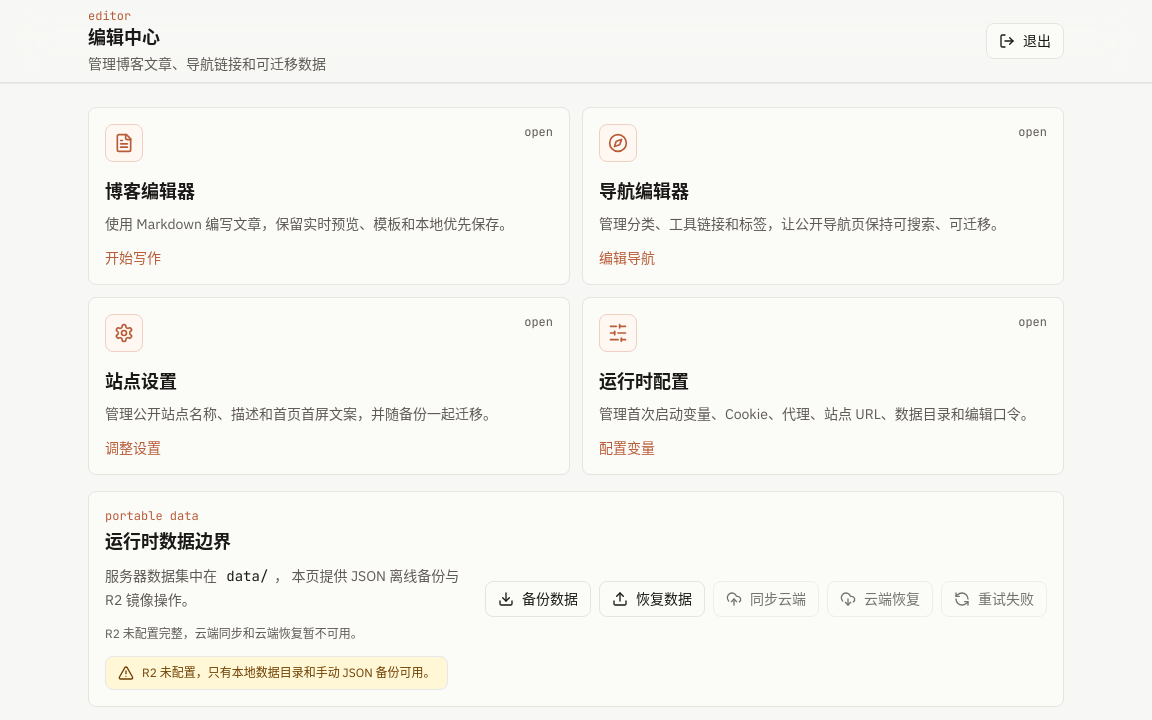
EditorHomePage › shows the backend backup failure message when portable backup download is rejected
Click the button "备份数据": (538, 599) [485, 581, 591, 617]
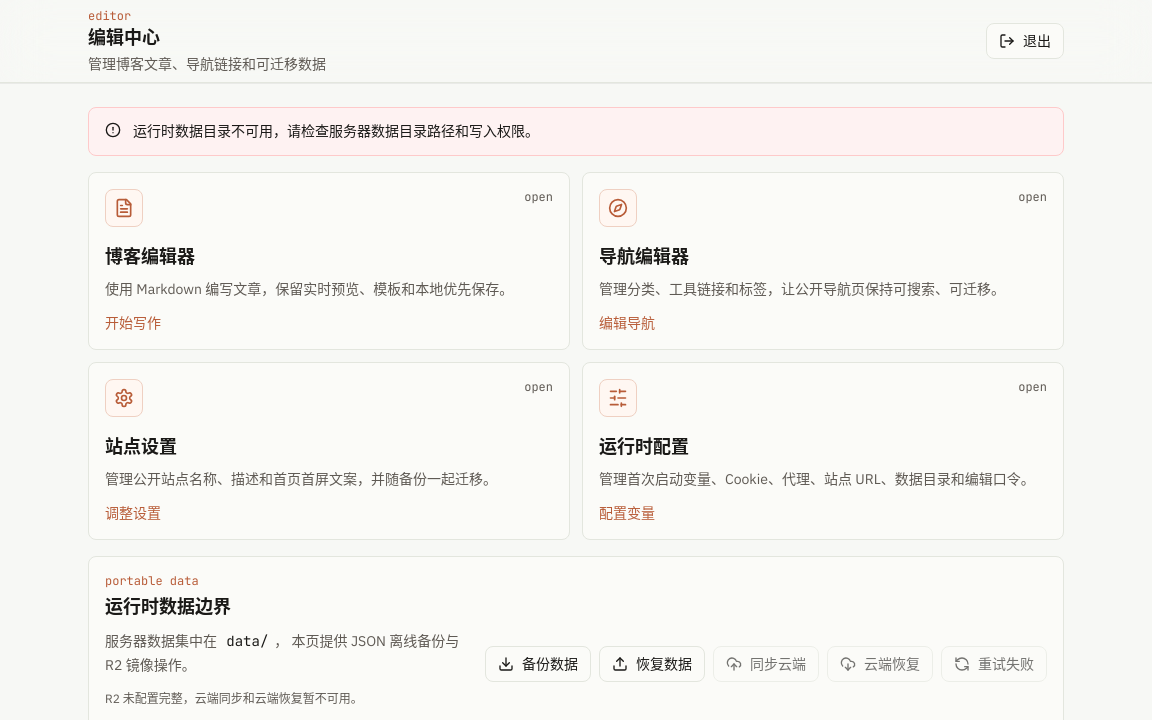
Result: the text "运行时数据目录不可用，请检查服务器数据目录路径和写入权限。" is shown at [133, 120, 539, 143]
